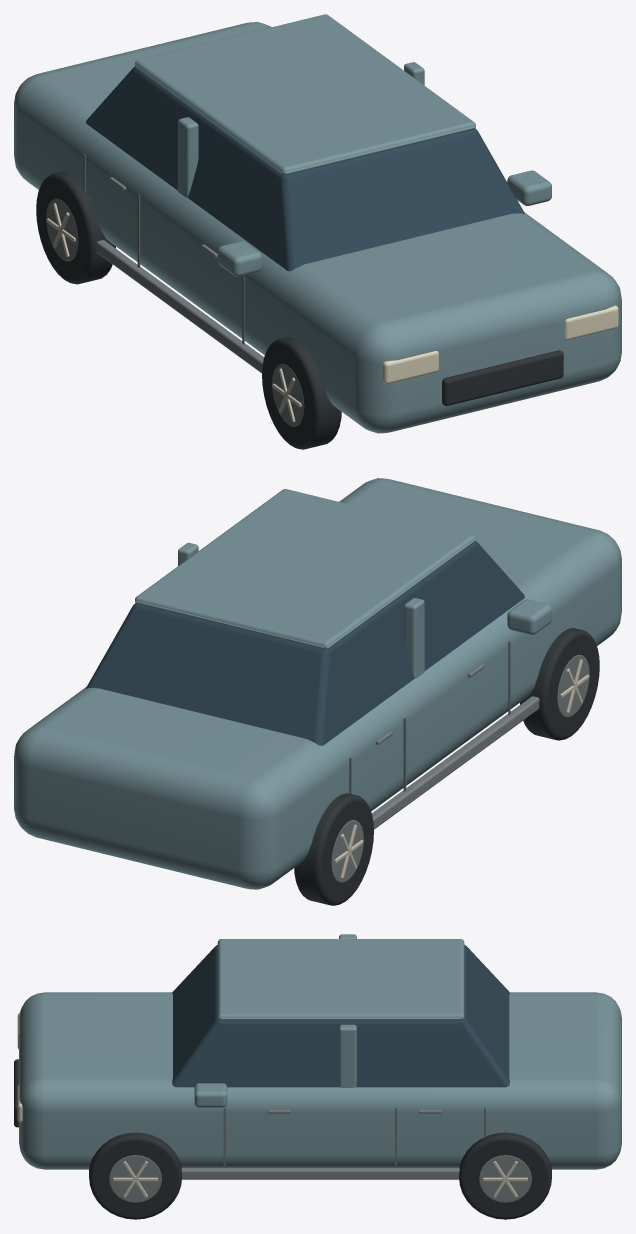
The model's file is car-naturalistic.glb.
3 views of the same model, one above another, from view 1: azimuth 30°, elevation 25°; view 2: azimuth 150°, elevation 25°; view 3: azimuth 270°, elevation 25° (orthographic). The views are drawn at different scales.
Visible parts, largest first — view 1: paint, glass, rubber, frame, lamp, stone, roof.001; view 2: paint, glass, rubber, frame, stone, roof.001; view 3: paint, glass, rubber, frame, stone.
Part boxes in pixels (bbox=[...]): paint: bbox=[14, 14, 621, 433]; glass: bbox=[86, 66, 524, 271]; rubber: bbox=[36, 171, 563, 449]; frame: bbox=[46, 177, 304, 426]; lamp: bbox=[382, 305, 618, 384]; stone: bbox=[46, 203, 301, 422]; roof.001: bbox=[83, 154, 244, 344]; paint: bbox=[14, 478, 621, 889]; glass: bbox=[86, 541, 524, 745]; rubber: bbox=[294, 628, 599, 905]; frame: bbox=[331, 655, 589, 882]; stone: bbox=[334, 659, 589, 878]; roof.001: bbox=[349, 641, 510, 793]; paint: bbox=[19, 934, 621, 1169]; glass: bbox=[172, 944, 509, 1087]; rubber: bbox=[14, 1059, 551, 1219]; frame: bbox=[109, 1110, 531, 1202]; stone: bbox=[113, 1161, 527, 1197].
Bounding box in the file's own units: 2.2 × 1.51 × 4.44.
